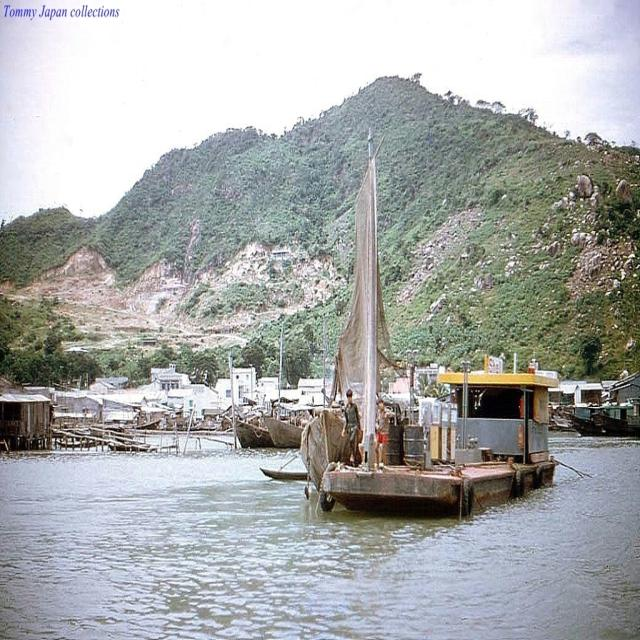Boat: (277, 151, 565, 533)
